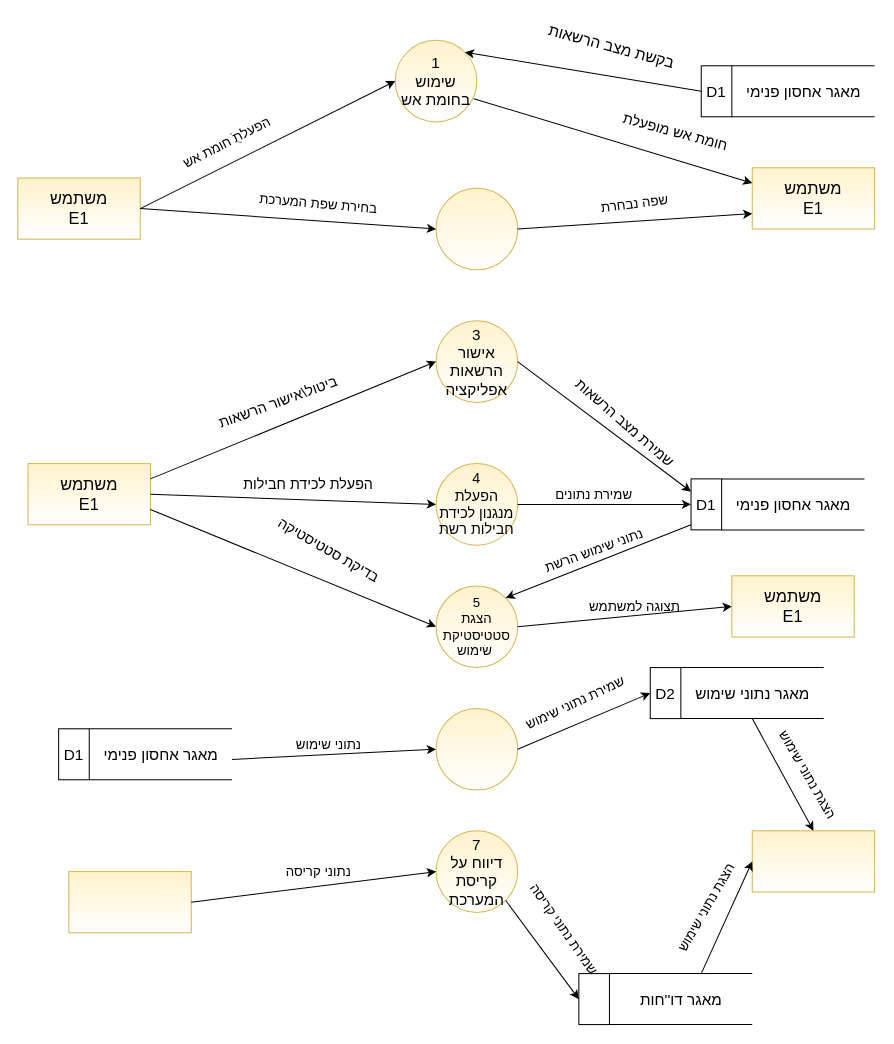
Image size: 894x1044. Some labels were removed from this diagram. Each missing label, with the centre of its shape:
"2 שינוי שפת המערכת" belongs at (476,228).
"6 דיווח על נתוני שימוש לשרת" belongs at (476,748).
"D3" belongs at (593,999).
"מנהל מערכת E2" belongs at (813,861).
"מערכת E3" belongs at (129,902).
